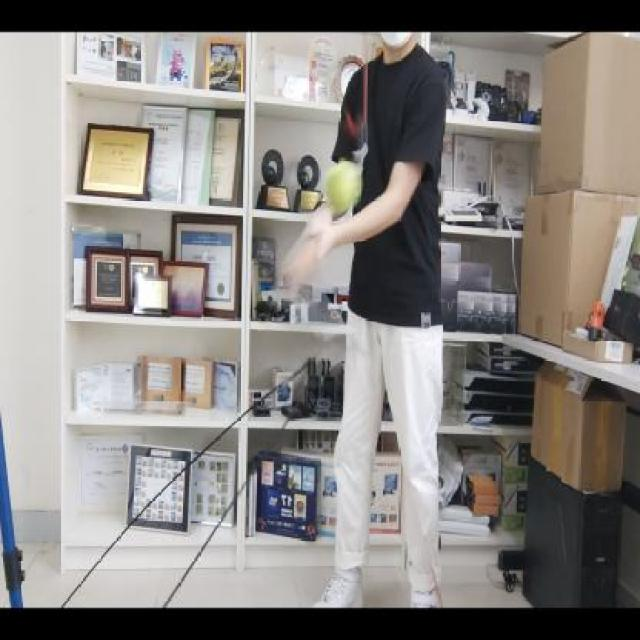baseball: (325, 155, 360, 210)
